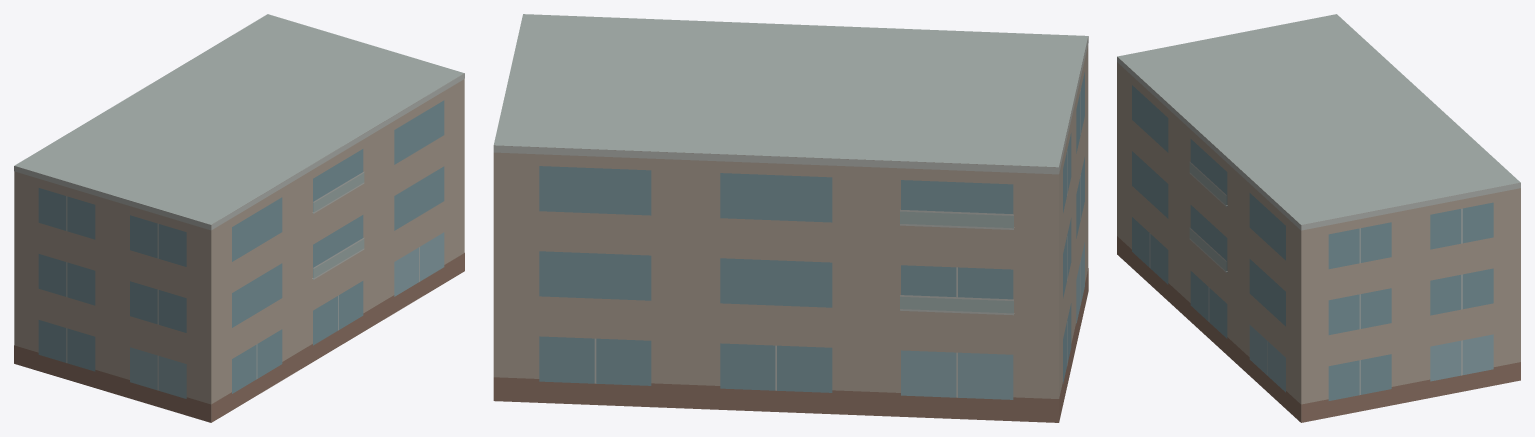
The model's file is survey-upis-32799925.glb.
3 views of the same model, side by side, from view 1: azimuth 30°, elevation 25°; view 2: azimuth 150°, elevation 25°; view 3: azimuth 270°, elevation 25° (orthographic). The views are drawn at different scales.
Parts seen in each view (by area): view 1: survey-upis-32799925.tmp; view 2: survey-upis-32799925.tmp; view 3: survey-upis-32799925.tmp.
Part boxes in pixels (box(x1,y1,x2,y2)): survey-upis-32799925.tmp: box(14, 14, 464, 422); survey-upis-32799925.tmp: box(493, 14, 1088, 422); survey-upis-32799925.tmp: box(1117, 14, 1520, 422).
Bounding box in the file's own units: 19.92 × 8.7 × 16.1.
